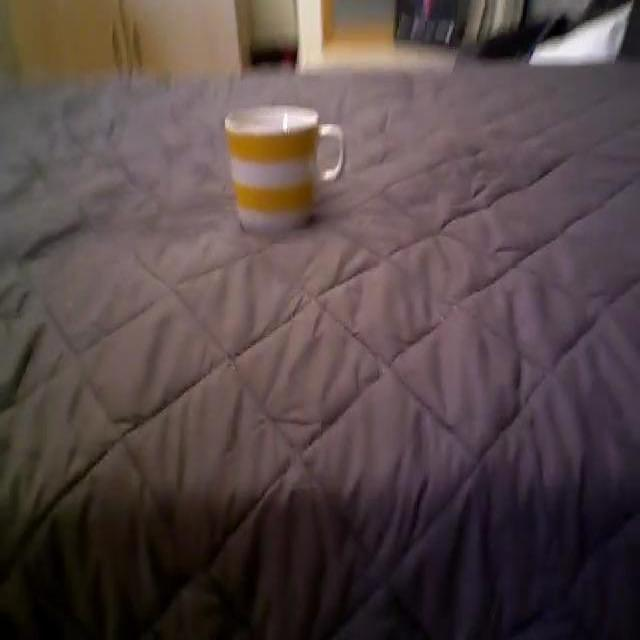cup: (220, 103, 350, 240)
